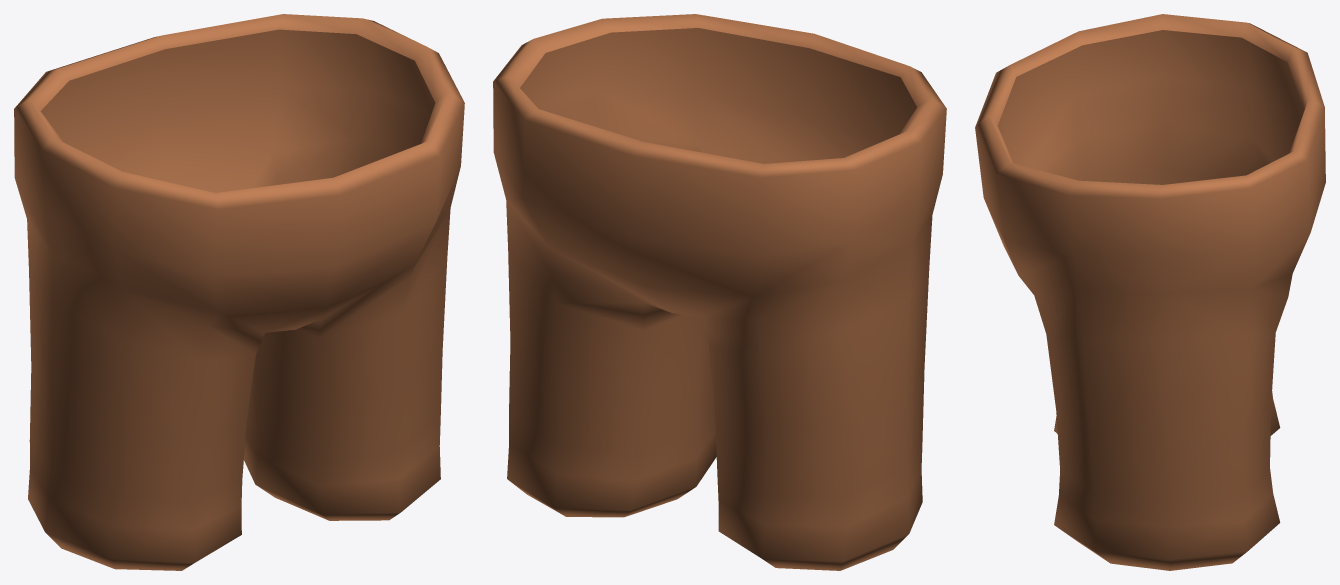
File: Bottom_18.fbx
The picture shows the model from 3 angles, left to right: view 1: azimuth 30°, elevation 25°; view 2: azimuth 150°, elevation 25°; view 3: azimuth 270°, elevation 25°; orthographic projection. The views are drawn at different scales.
Visible parts, largest first — view 1: Bottom_18; view 2: Bottom_18; view 3: Bottom_18.
Boxes of the visible parts, x1,y1,x2,y2 form: Bottom_18: (14,14,464,570); Bottom_18: (493,14,946,570); Bottom_18: (975,14,1325,570).
Bounding box in the file's own units: 38.42 × 38.99 × 31.34.
